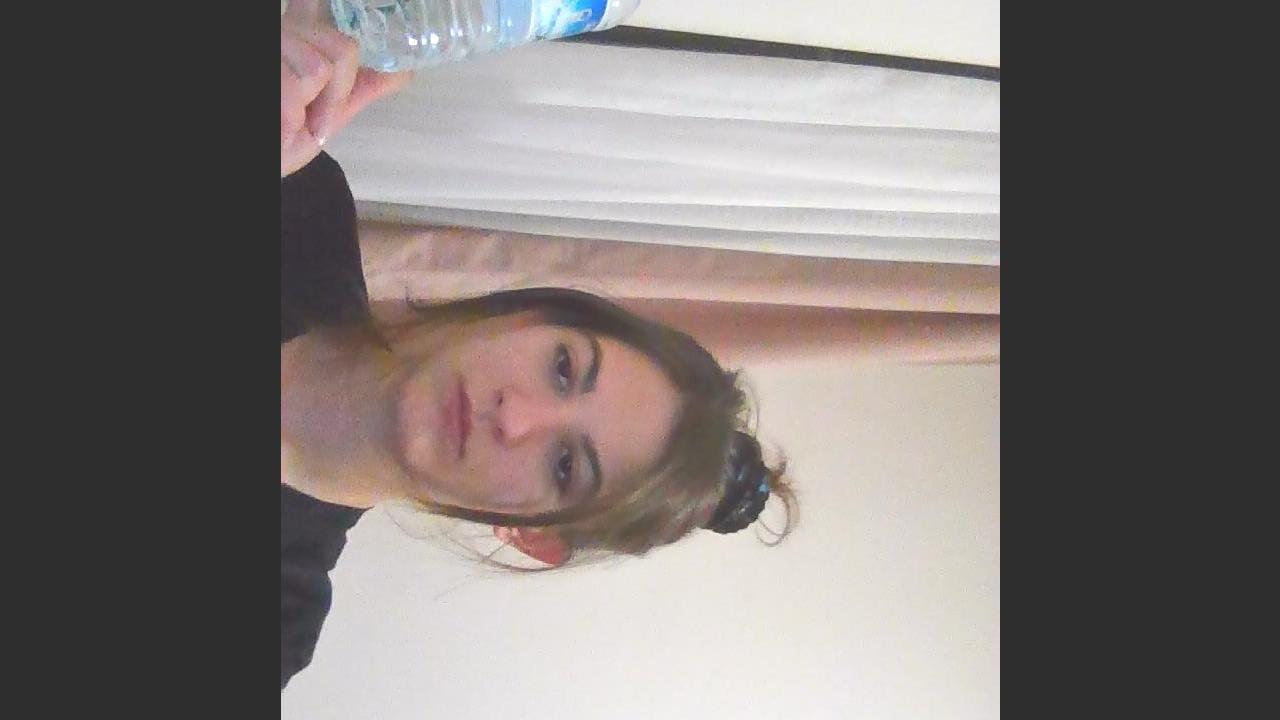bottle: (331, 0, 679, 61)
